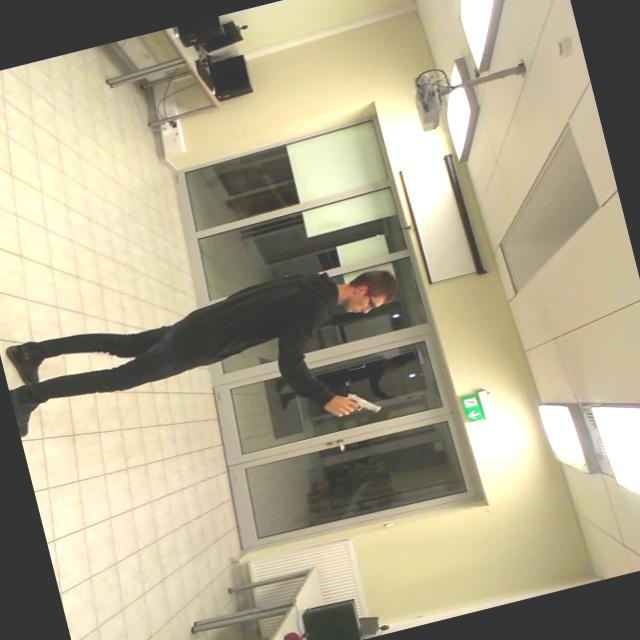handgun: (324, 381, 384, 430)
